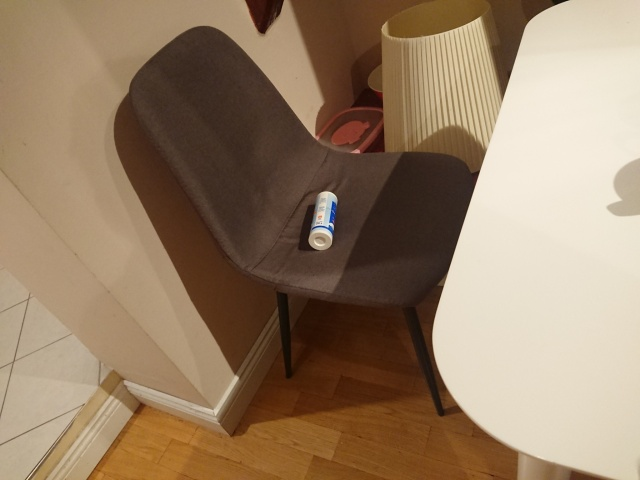Solana Pag Fine Sea Salt 250g: (306, 189, 340, 253)
